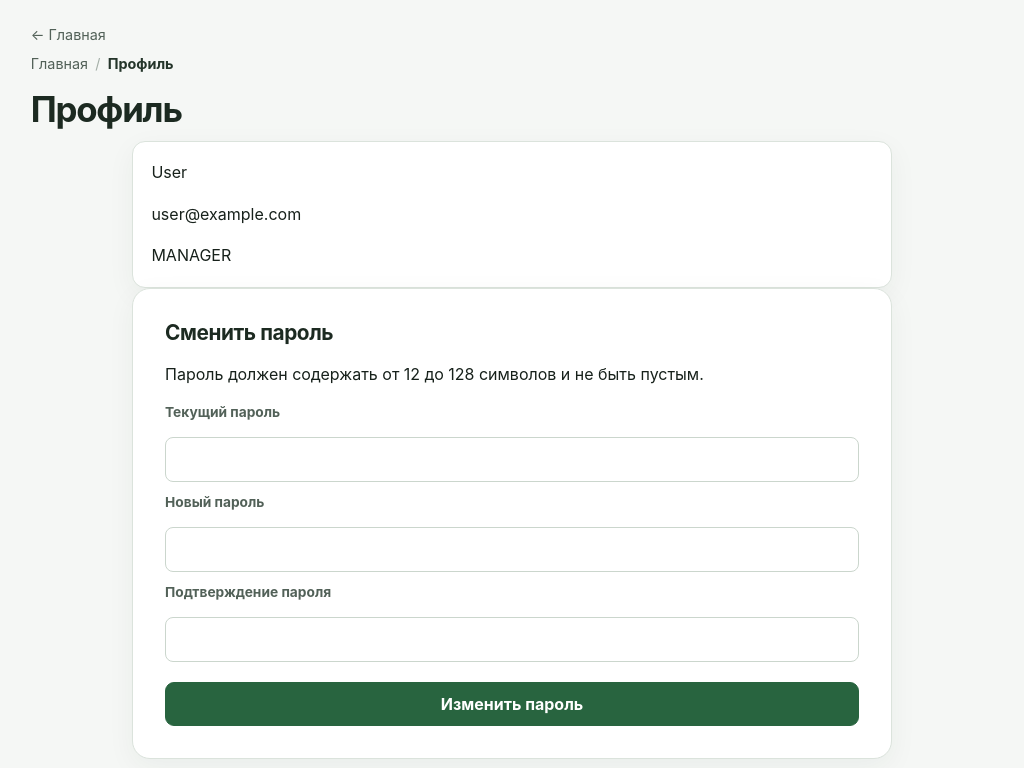
Accounts › changes password and clears inputs
Check: the text "user@example.com" is shown, box [151,204,301,224]
Type "valid-password" into the password field labelled "Текущий пароль" at point(512, 460), box [165,437,859,482]
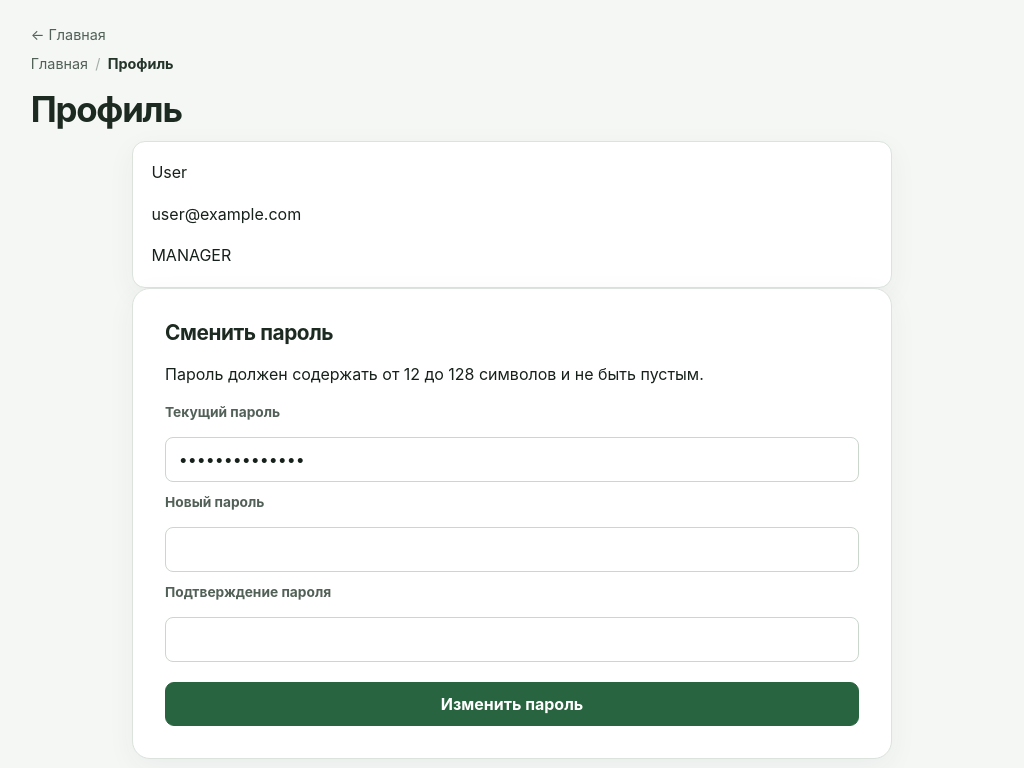
Type "secure-password-24" into the password field labelled "Новый пароль" at point(512, 549), box [165,527,859,572]
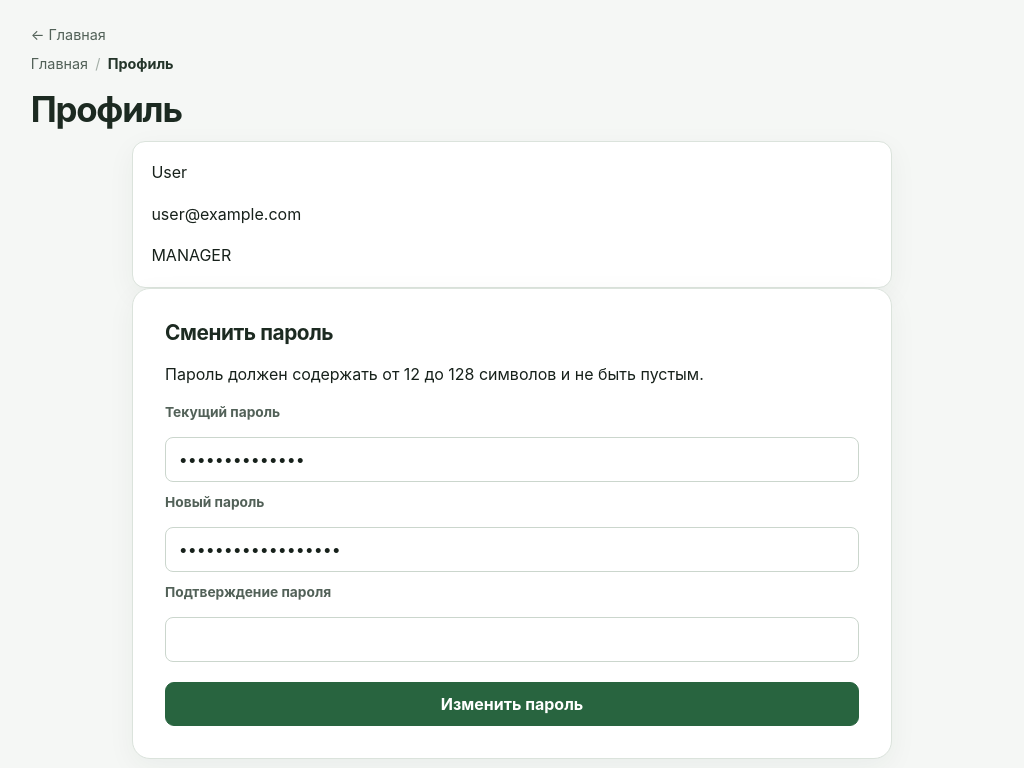
Type "secure-password-24" into the password field labelled "Подтверждение пароля" at point(512, 639), box [165,617,859,662]
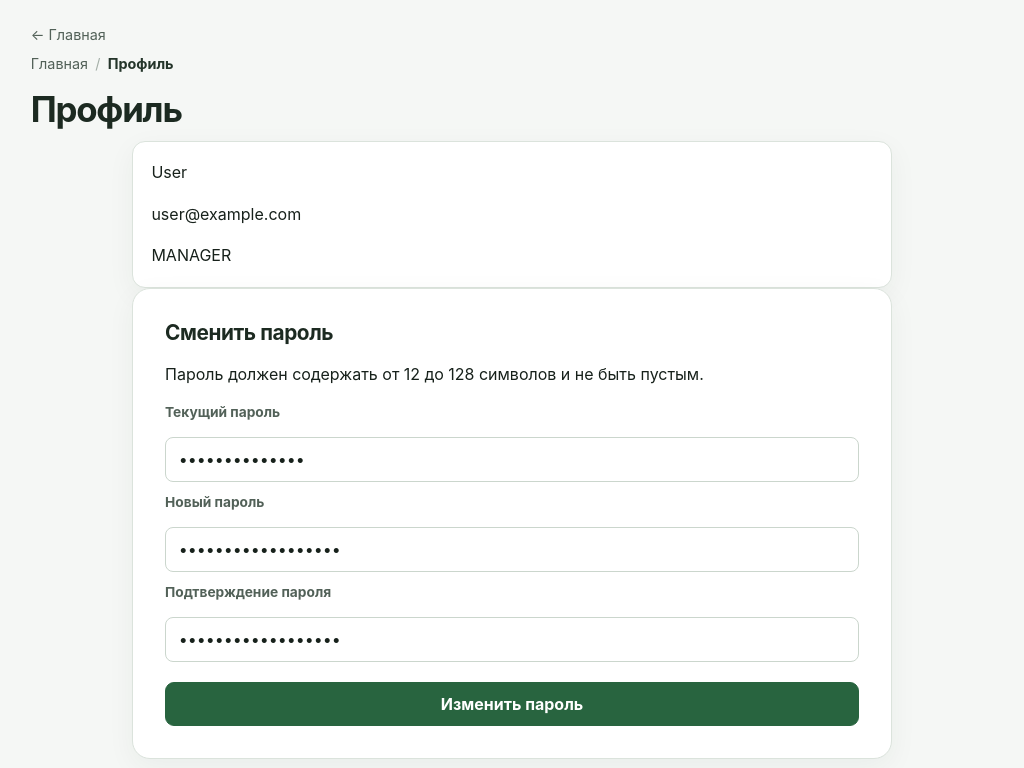
Click the button "Изменить пароль" at point(512, 704), box [165,682,859,726]
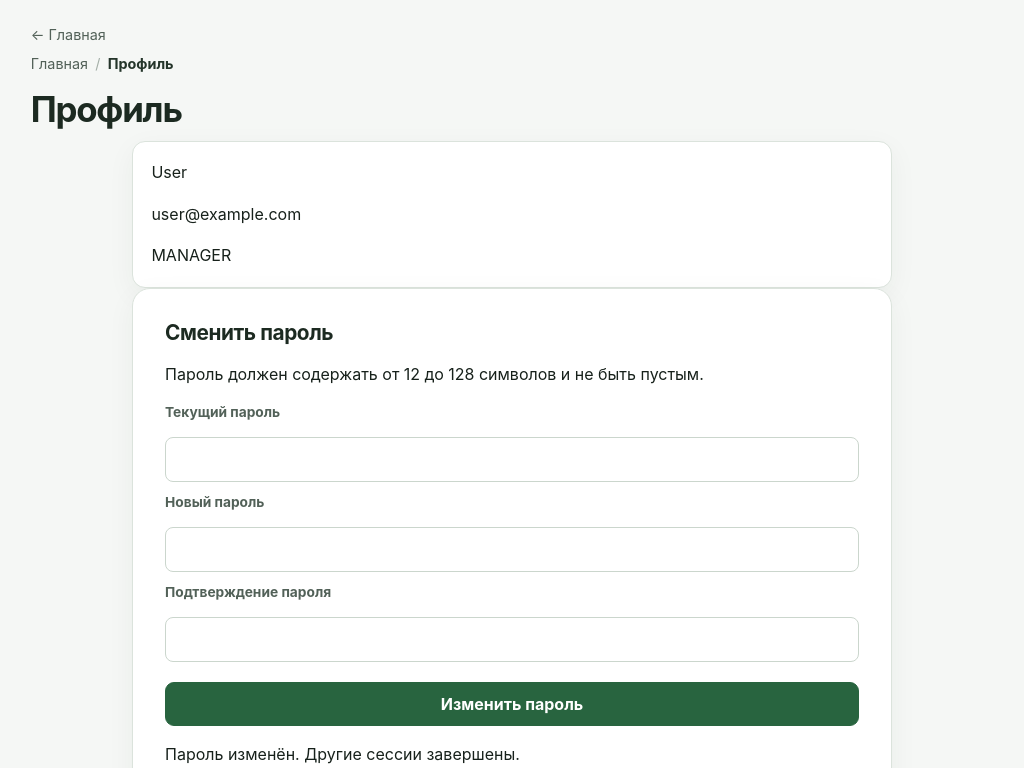
Check: the message shows "Пароль изменён", box [165,744,520,764]
Check: the password field labelled "Текущий пароль" is empty, box [165,437,859,482]
